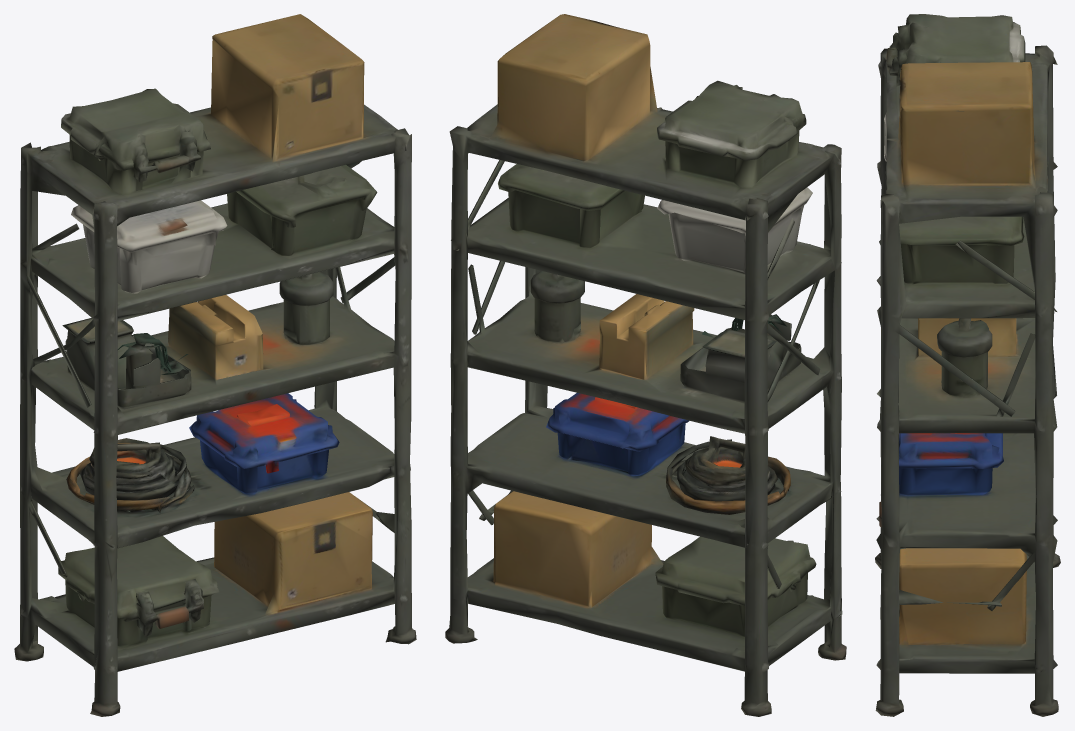
Rendered from shuttle_shelf_rack.glb.
3 renders of one model, left to right at view 1: azimuth 30°, elevation 25°; view 2: azimuth 150°, elevation 25°; view 3: azimuth 270°, elevation 25°, orthographic.
Visible parts, largest first — view 1: tripo_node_948f6c0c-7f32-432f-b25c-5026d5e6f3fc; view 2: tripo_node_948f6c0c-7f32-432f-b25c-5026d5e6f3fc; view 3: tripo_node_948f6c0c-7f32-432f-b25c-5026d5e6f3fc.
Boxes of the visible parts, x1=… form: tripo_node_948f6c0c-7f32-432f-b25c-5026d5e6f3fc: x1=14, y1=14, x2=416, y2=716; tripo_node_948f6c0c-7f32-432f-b25c-5026d5e6f3fc: x1=445, y1=14, x2=846, y2=716; tripo_node_948f6c0c-7f32-432f-b25c-5026d5e6f3fc: x1=875, y1=14, x2=1060, y2=716.
Size of the model in its own units: 0.5677 by 0.9796 by 0.2793.
1 material, 1 textured.
